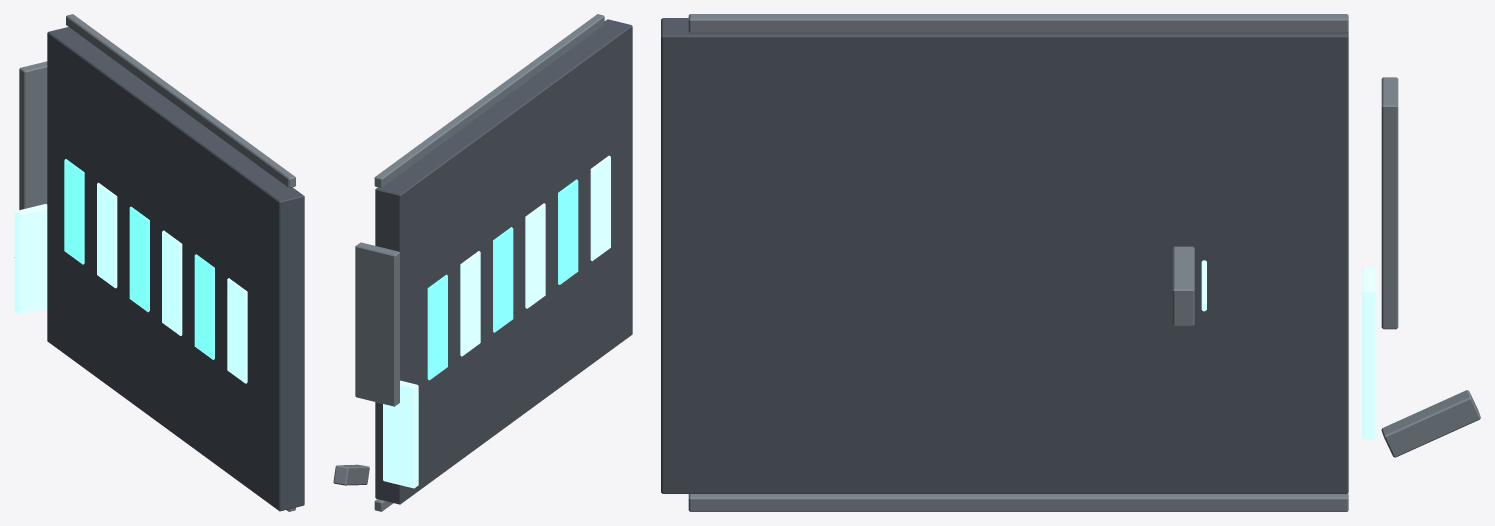
File: facade_broken_r.glb
The picture shows the model from 3 angles, left to right: view 1: azimuth 30°, elevation 25°; view 2: azimuth 150°, elevation 25°; view 3: azimuth 270°, elevation 25°; orthographic projection. The views are drawn at different scales.
Parts seen in each view (by area): view 1: FacadeBroken_R; view 2: FacadeBroken_R; view 3: FacadeBroken_R.
Part boxes in pixels (<box>): FacadeBroken_R: <box>14,14,304,511</box>; FacadeBroken_R: <box>333,14,632,511</box>; FacadeBroken_R: <box>661,14,1480,511</box>.
Bounding box in the file's own units: 1.35 × 3.96 × 5.96.
